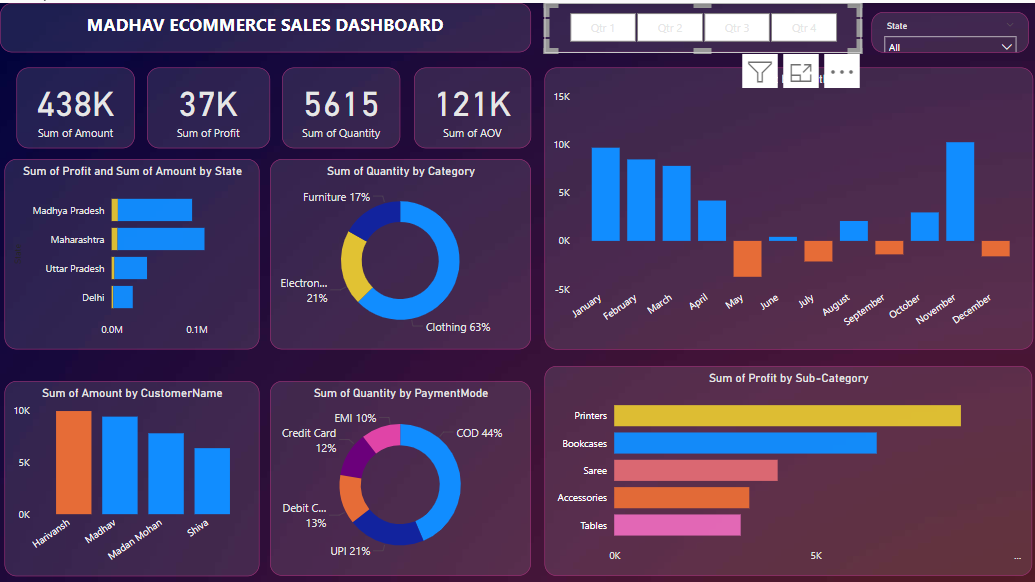

Layout of this report page (visuals, bound fields, positions):
{"tool":"powerbi","page":{"name":"Page 1","canvas":[1280,720],"ordinal":0},"visuals":[{"type":"textbox","box":[0,0,652.6,60.8],"z":0},{"type":"columnChart","title":"Profit by Month","fields":{"Category":["Orders.Order Date.Variation.Date Hierarchy.Month"],"Y":["Details.Profit"]},"box":[669.2,79.3,601,346.6],"z":1000},{"type":"barChart","fields":{"Category":["Details.Sub-Category"],"Y":["Details.Profit"]},"box":[669.2,446.1,599.1,258.1],"z":2000},{"type":"donutChart","fields":{"Category":["Details.Category"],"Y":["Details.Quantity"]},"box":[331.8,191.7,320.8,234.1],"z":3000},{"type":"donutChart","fields":{"Y":["Details.Quantity"],"Category":["Details.PaymentMode"]},"box":[331.8,464.6,320.8,239.7],"z":4000},{"type":"card","fields":{"Values":["Details.Amount"]},"box":[20.3,79.3,145.6,99.5],"z":5000},{"type":"card","fields":{"Values":["Details.Quantity"]},"box":[346.6,79.3,145.6,99.5],"z":6000},{"type":"card","fields":{"Values":["Details.Profit"]},"box":[180.7,79.3,151.2,99.5],"z":7000},{"type":"card","fields":{"Values":["Details.AOV"]},"box":[508.8,79.3,143.8,99.5],"z":8000},{"type":"barChart","fields":{"Y":["Details.Profit","Details.Amount"],"Category":["Orders.State"]},"box":[5.5,191.7,313.4,234.1],"z":9000},{"type":"columnChart","fields":{"Category":["Orders.CustomerName"],"Y":["Details.Amount"]},"box":[6,465,313,240],"z":10000},{"type":"slicer","fields":{"Values":["Orders.State"]},"box":[1071.1,11.1,193.6,49.8],"z":11000},{"type":"slicer","fields":{"Values":["Orders.Order Date.Variation.Date Hierarchy.Quarter"]},"box":[669.2,0,389,60.8],"z":12000}]}

Visuals, with their boxes on the page's 1280x720 design canvas (x1, y1, x2, y2). These are canvas units, not pixel positions in the 1035x582 screenshot, which may show the page scaled, cropped or inside an application window:
textbox: box(0, 0, 653, 61)
"Profit by Month" columnChart: box(669, 79, 1270, 426)
barChart - Details.Sub-Category x Details.Profit: box(669, 446, 1268, 704)
donutChart - Details.Category x Details.Quantity: box(332, 192, 653, 426)
donutChart - Details.Quantity x Details.PaymentMode: box(332, 465, 653, 704)
card - Details.Amount: box(20, 79, 166, 179)
card - Details.Quantity: box(347, 79, 492, 179)
card - Details.Profit: box(181, 79, 332, 179)
card - Details.AOV: box(509, 79, 653, 179)
barChart - Details.Profit x Details.Amount: box(6, 192, 319, 426)
columnChart - Orders.CustomerName x Details.Amount: box(6, 465, 319, 705)
slicer - Orders.State: box(1071, 11, 1265, 61)
slicer - Orders.Order Date.Variation.Date Hierarchy.Quarter: box(669, 0, 1058, 61)
